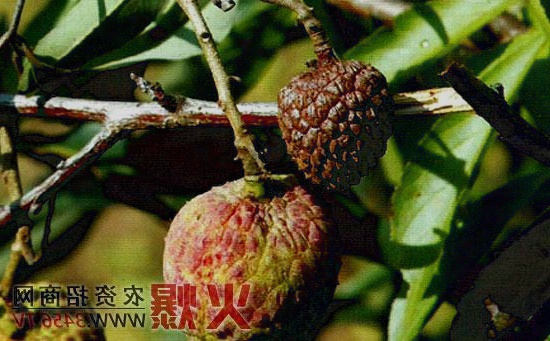Anthracnose: (276, 54, 389, 191), (144, 204, 324, 289)
